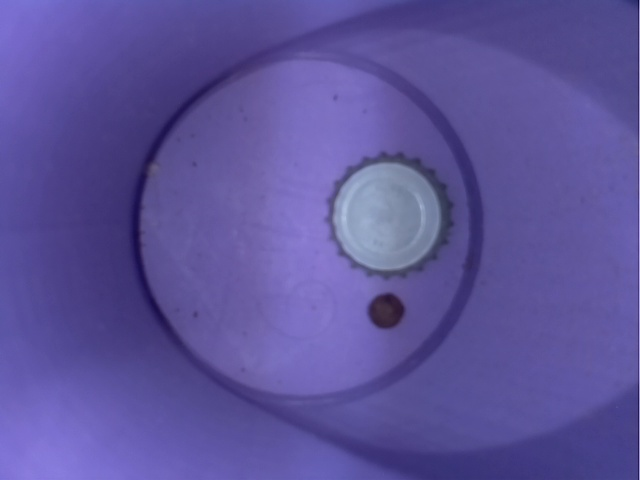capsule: (321, 150, 457, 280)
croquette: (363, 290, 411, 334)
